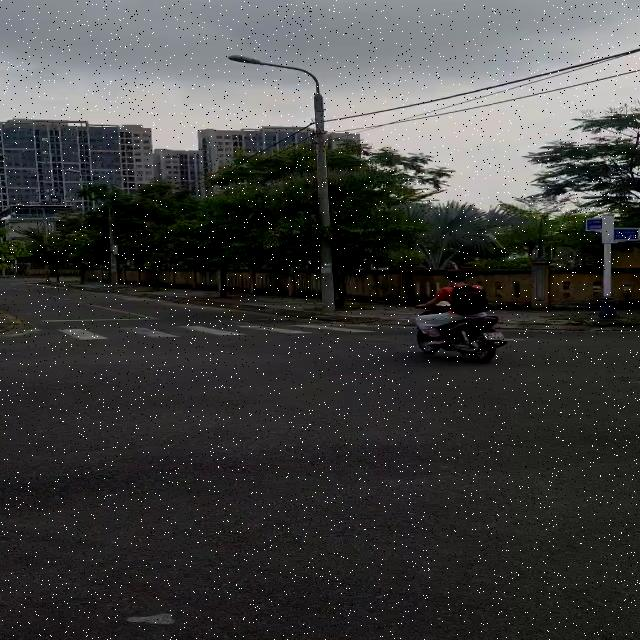no_helmet: (443, 270, 470, 286)
